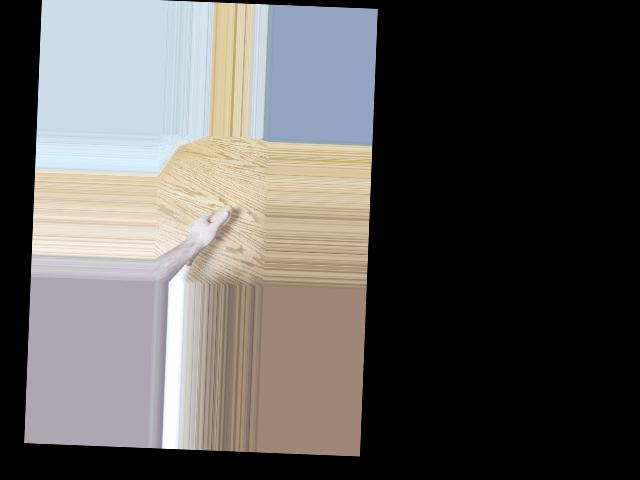sweet_potato: (180, 202, 233, 270)
